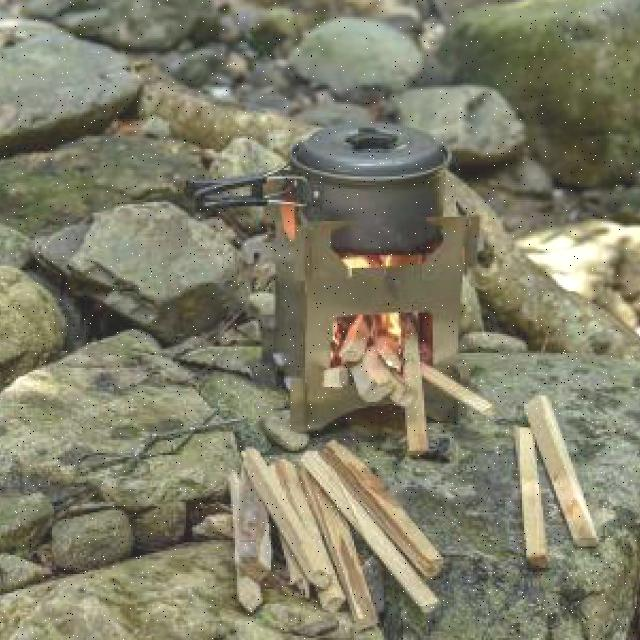fire: (326, 303, 413, 359), (326, 241, 410, 278)
